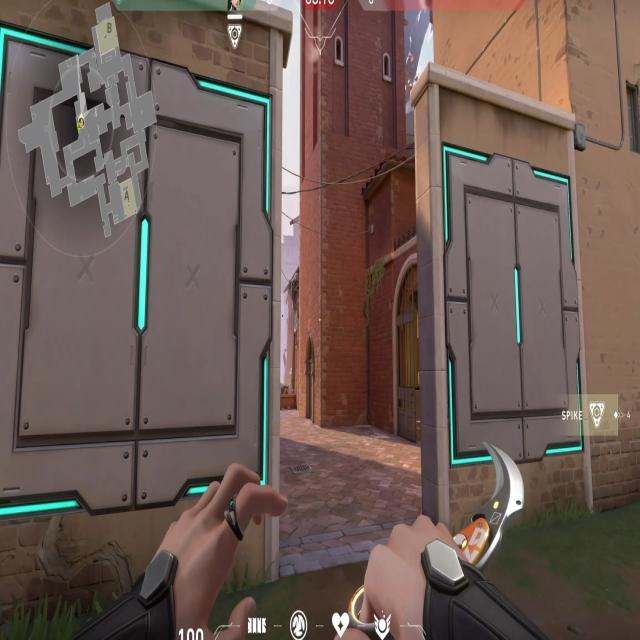Mid_Wall: (0, 6, 280, 539), (440, 130, 590, 486)
